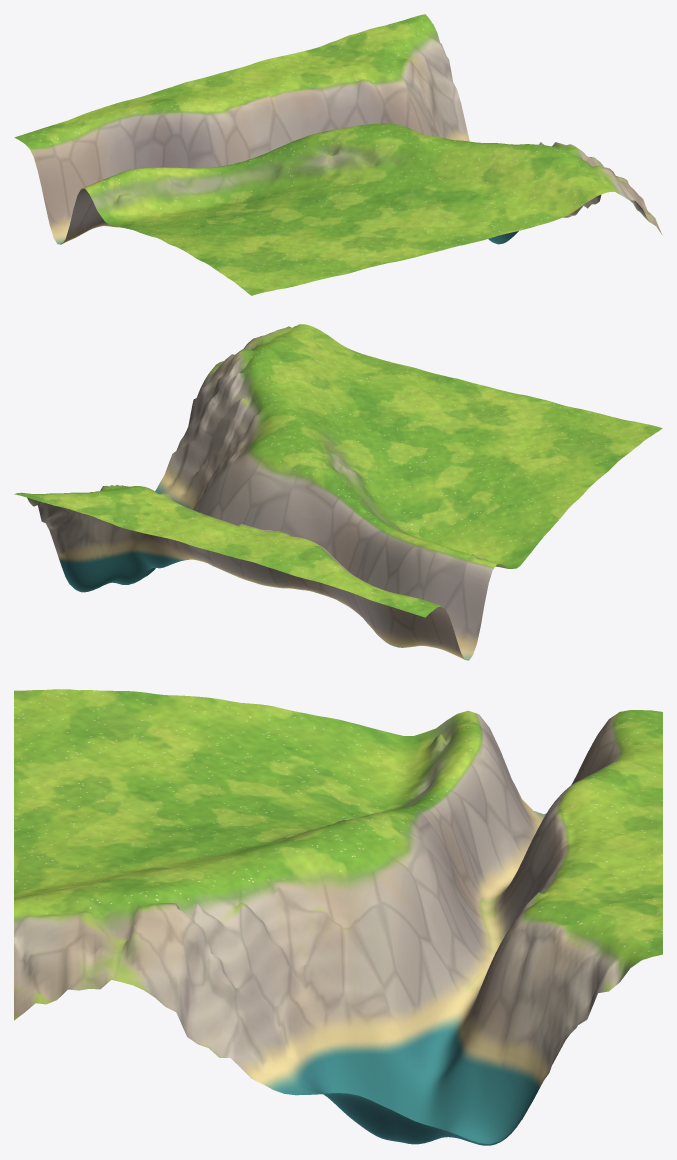
3 views of the same model, one above another, from view 1: azimuth 30°, elevation 25°; view 2: azimuth 150°, elevation 25°; view 3: azimuth 270°, elevation 25° (orthographic). The views are drawn at different scales.
Parts seen in each view (by area): view 1: t128_064; view 2: t128_064; view 3: t128_064.
Part boxes in pixels (x1,y1,x2,y2): t128_064: (14, 14, 662, 295); t128_064: (14, 324, 662, 660); t128_064: (14, 689, 662, 1145).
Size of the model in its own units: 64 by 24.87 by 64.
Materials: 1 (1 with a texture image).
